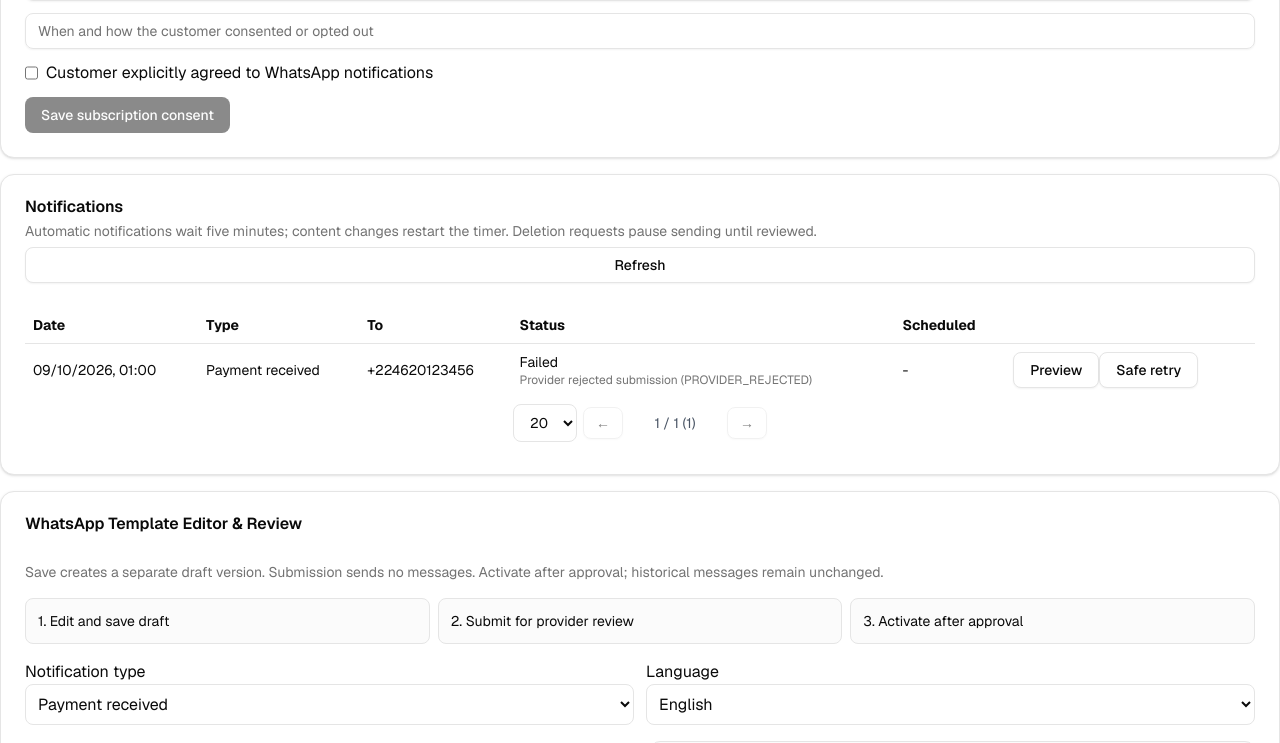
reports the actual result of a single retry: success
(page scrolled)
Click the button "Safe retry" at (1149, 370), box [1099, 352, 1198, 388]
(page scrolled)
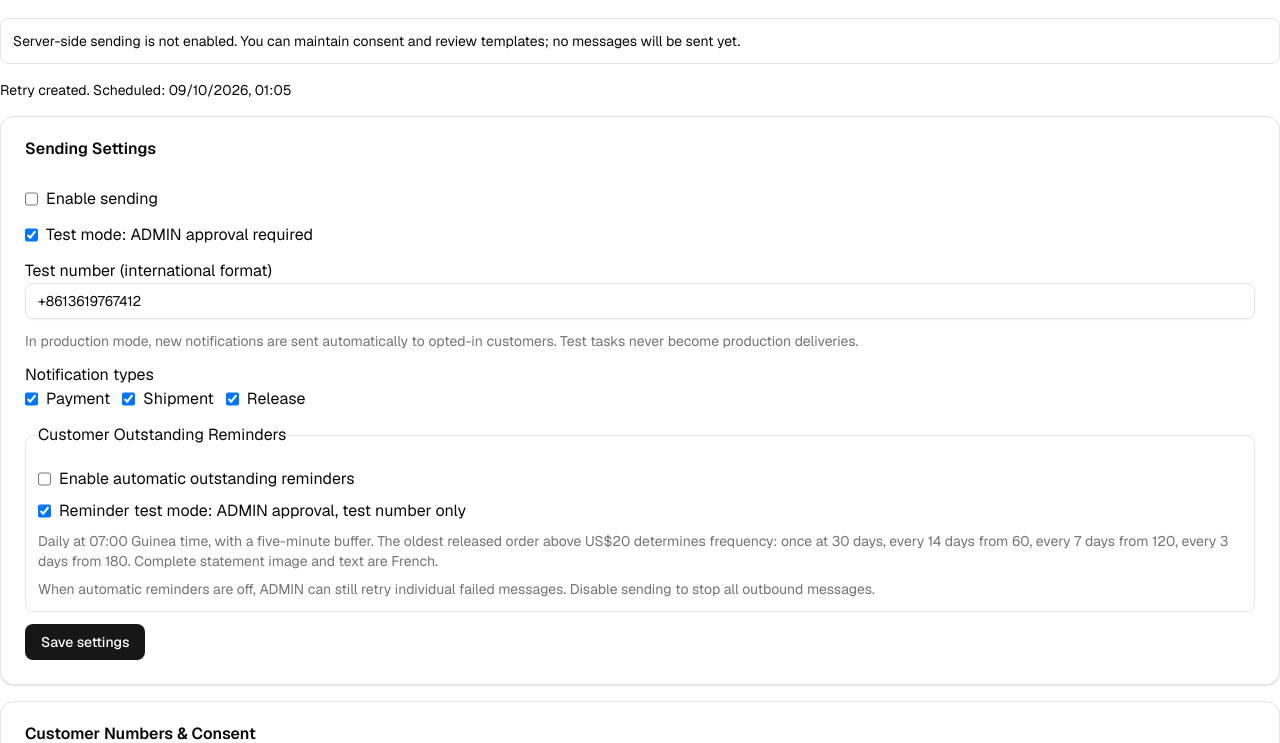
expect the text "Retry created. Scheduled: 09/10/2026, 01:05" is shown: met, box [0, 81, 292, 99]
